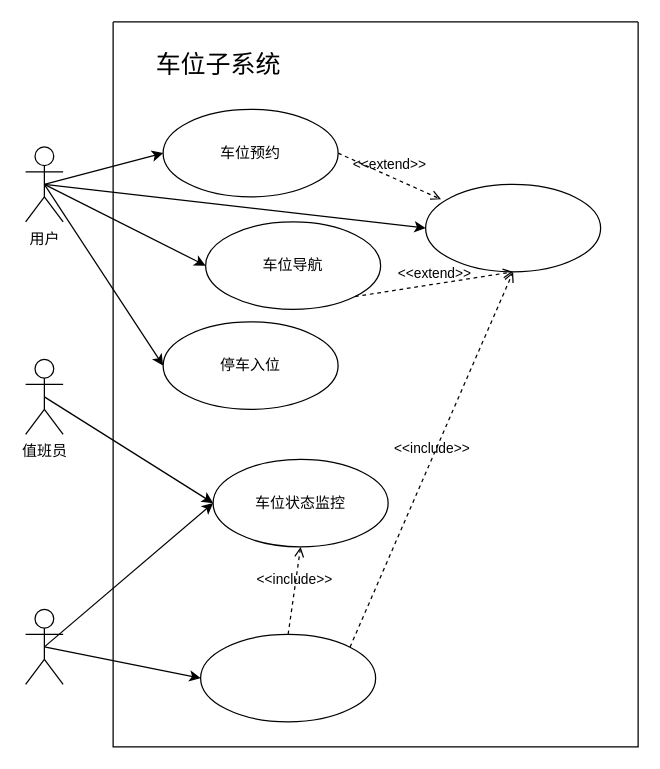
The diagram is 660 pixels wide and 769 high, and some of its shapes have lost their labels. Here are the shapes that lost their labels. From the top down, the centre of each, then its label:
(x=512, y=227): 车位查询
(x=43, y=646): 管理员
(x=287, y=677): 车位管理
